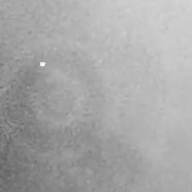Target: (39, 61, 47, 67)
